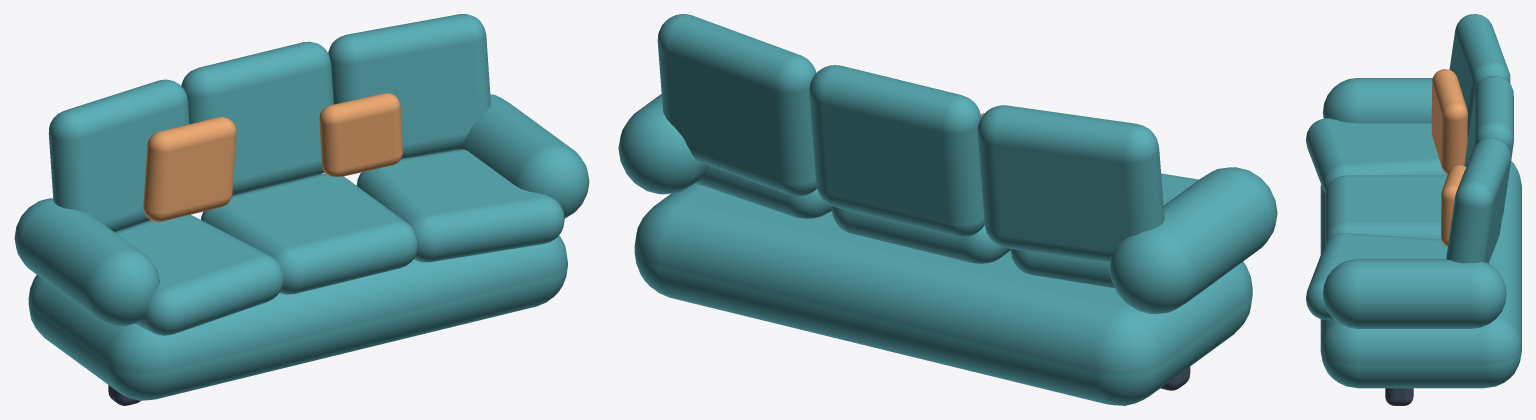
Rendered from sofa.glb.
The picture shows the model from 3 angles, left to right: view 1: azimuth 30°, elevation 25°; view 2: azimuth 150°, elevation 25°; view 3: azimuth 270°, elevation 25°; orthographic projection. The views are drawn at different scales.
Parts seen in each view (by area): view 1: sofa; view 2: sofa; view 3: sofa.
Part boxes in pixels (x1,y1,x2,y2): sofa: (14,14,589,405); sofa: (618,14,1277,405); sofa: (1306,14,1521,405).
Size of the model in its own units: 2.28 by 1.14 by 0.9866.
